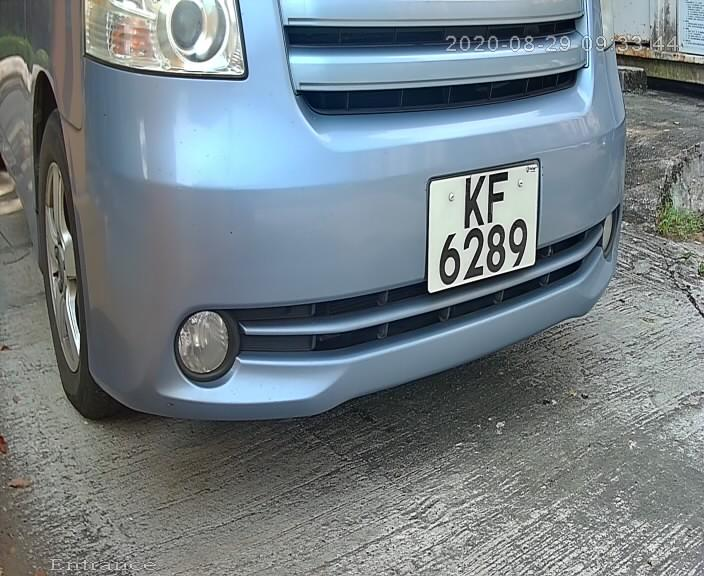License Plate: (415, 152, 547, 304)
